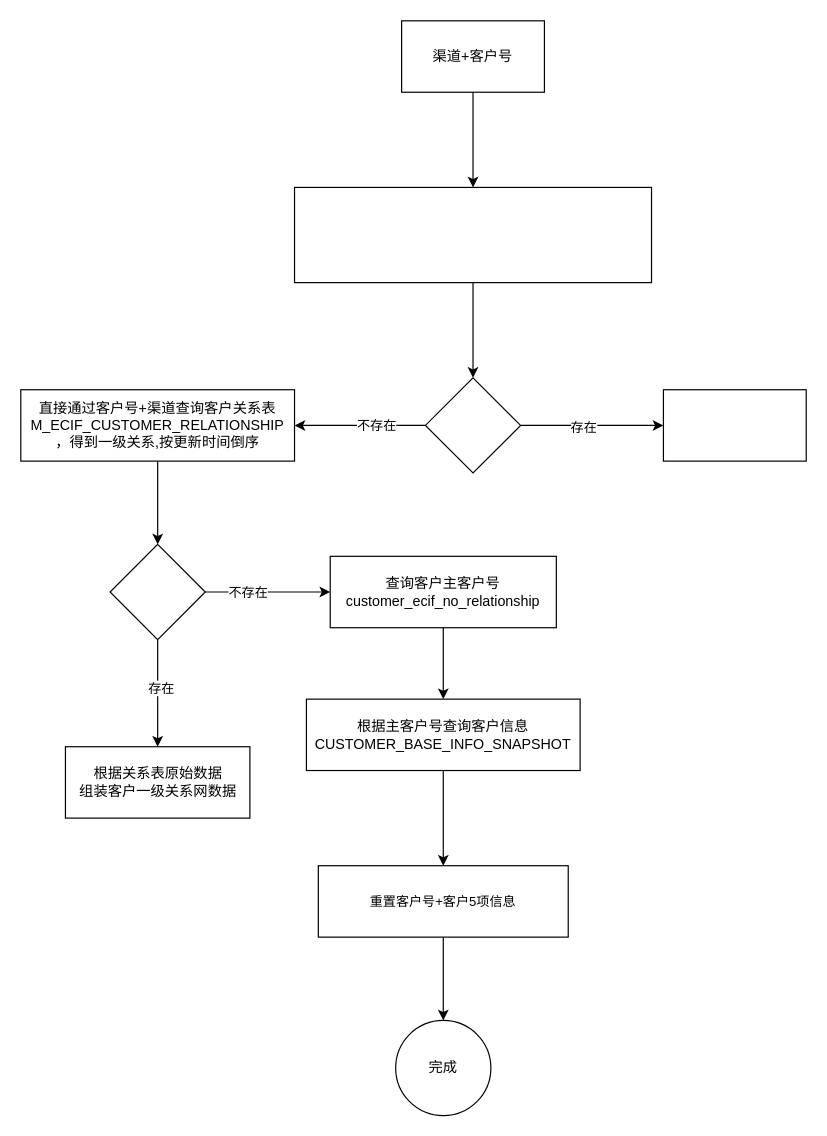
Image size: 827x1136. Some labels were removed from this diagram. The centre of each missing label's shape, as x and y in pixels:
"CUSTOMER_BASE_INFO_SNAPSHOT 查询该表是否存在该客户号，一个客户号只有一条数据。但是按客户5项查存在多个客户号的可能" goes at pixel 472 234.
"是否存在" goes at pixel 472 425.
"是否存在一级关系" goes at pixel 157 591.
